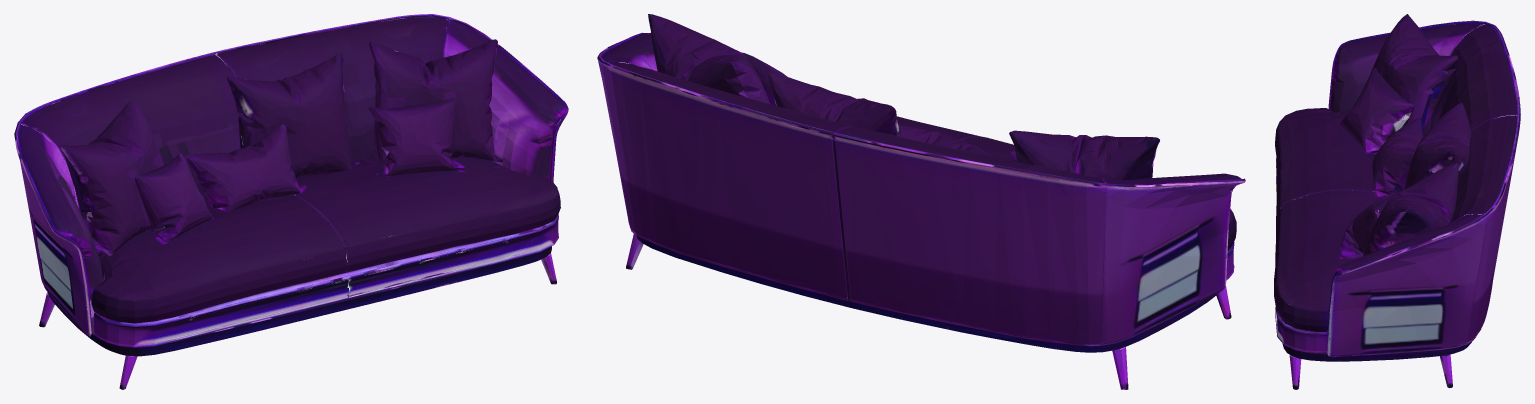
File: edited_mesh.glb
3 views of the same model, side by side, from view 1: azimuth 30°, elevation 25°; view 2: azimuth 150°, elevation 25°; view 3: azimuth 270°, elevation 25° (orthographic). The views are drawn at different scales.
Visible parts, largest first — view 1: solid_001_wire; view 2: solid_001_wire; view 3: solid_001_wire.
Boxes of the visible parts, bbox=[...] form: solid_001_wire: bbox=[14, 14, 568, 389]; solid_001_wire: bbox=[597, 14, 1245, 389]; solid_001_wire: bbox=[1274, 14, 1520, 389].
Bounding box in the file's own units: 2 × 0.7466 × 0.909.
1 material, 1 textured.
